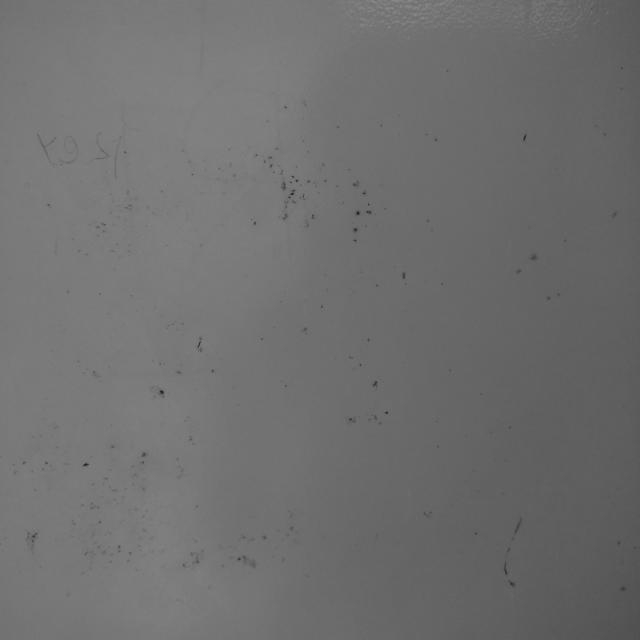stain marks: (12, 6, 624, 616)
